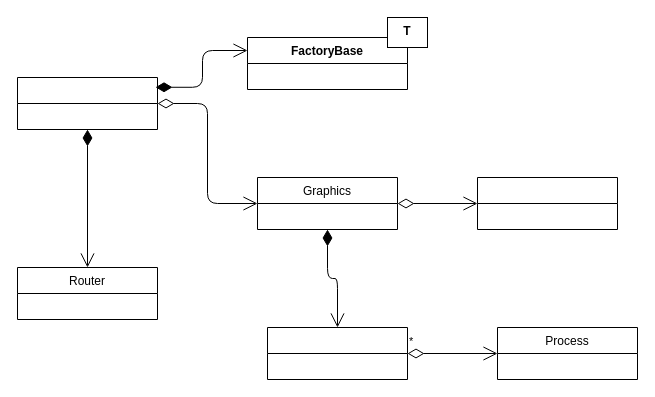
Image size: 655x397. Some labels were removed from this diagram. Here are the shapes that lost their labels. From the top down, the box of each, then its label:
(16, 76, 158, 130): Frontend
(476, 176, 618, 230): Renderer
(266, 326, 408, 380): ProcessManager
